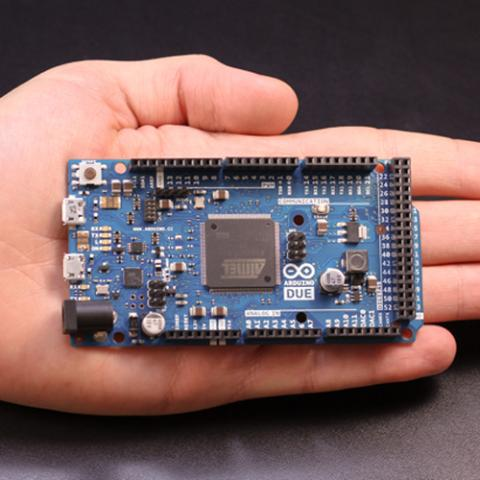Arduino-Due: (58, 151, 428, 353)
